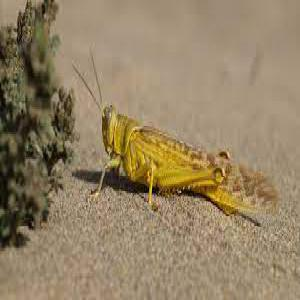locust: (91, 76, 276, 231)
